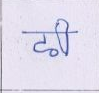i_matra: (55, 19, 71, 56)
